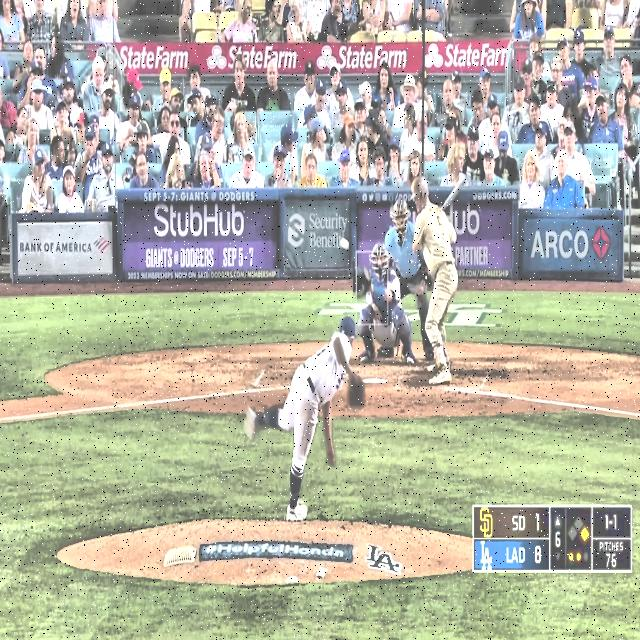baseball: (341, 237, 349, 250)
